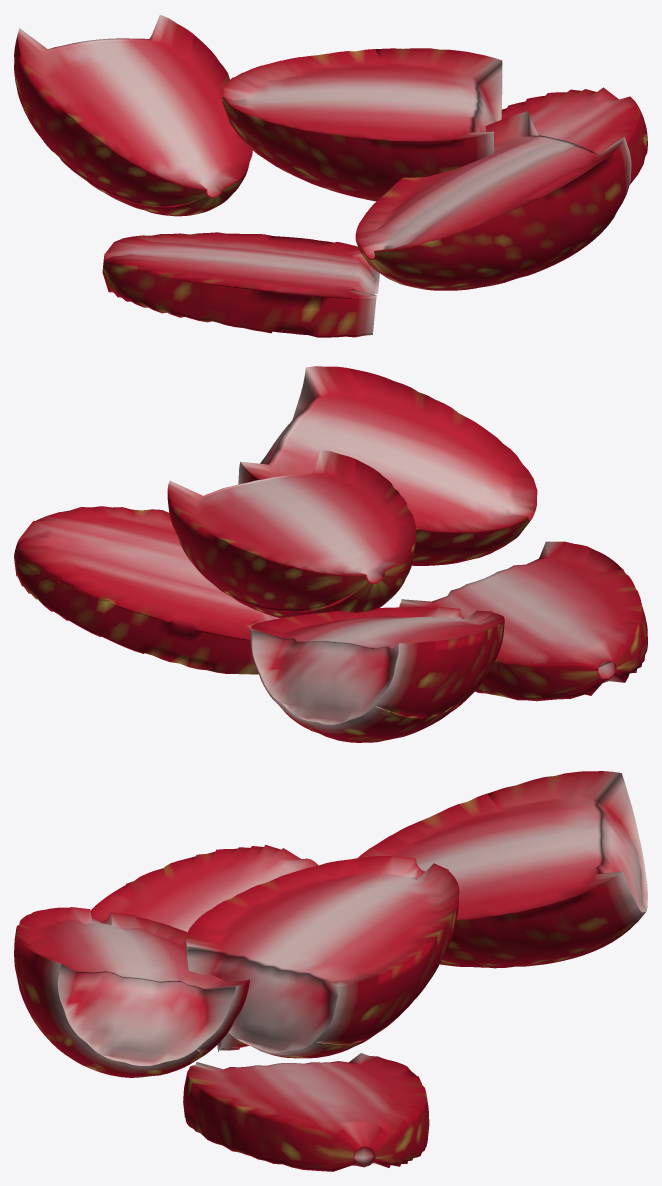
File: morango.glb
3 views of the same model, one above another, from view 1: azimuth 30°, elevation 25°; view 2: azimuth 150°, elevation 25°; view 3: azimuth 270°, elevation 25° (orthographic). The views are drawn at different scales.
Parts seen in each view (by area): view 1: morango_4, morango_3, morango_2, morango_1, morango_0; view 2: morango_3, morango_2, morango_4, morango_0, morango_1; view 3: morango_3, morango_4, morango_2, morango_0, morango_1.
Boxes of the visible parts, bbox=[...] form: morango_4: bbox=[14, 14, 252, 216]; morango_3: bbox=[222, 48, 502, 201]; morango_2: bbox=[355, 111, 631, 290]; morango_1: bbox=[102, 232, 379, 337]; morango_0: bbox=[501, 87, 647, 184]; morango_3: bbox=[167, 449, 416, 618]; morango_2: bbox=[238, 366, 537, 565]; morango_4: bbox=[250, 606, 504, 742]; morango_0: bbox=[14, 506, 279, 674]; morango_1: bbox=[399, 541, 647, 701]; morango_3: bbox=[185, 855, 459, 1058]; morango_4: bbox=[358, 771, 647, 968]; morango_2: bbox=[14, 907, 249, 1077]; morango_0: bbox=[183, 1053, 429, 1171]; morango_1: bbox=[90, 844, 318, 1051].
Size of the model in its own units: 0.9305 by 0.2814 by 0.8383.
